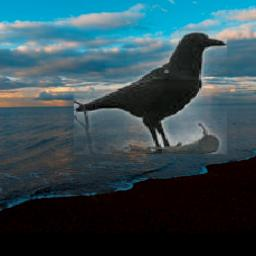Crow: (73, 32, 226, 155)
